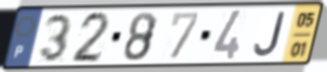2: (70, 11, 114, 64)
3: (38, 12, 75, 63)
4: (211, 8, 242, 63)
7: (169, 11, 202, 61)
8: (123, 11, 159, 62)
J: (252, 10, 288, 59)
